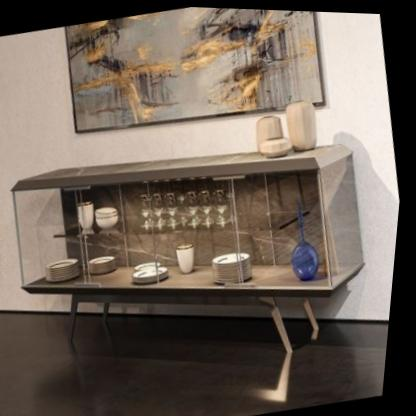Cupboard: (16, 142, 370, 389)
